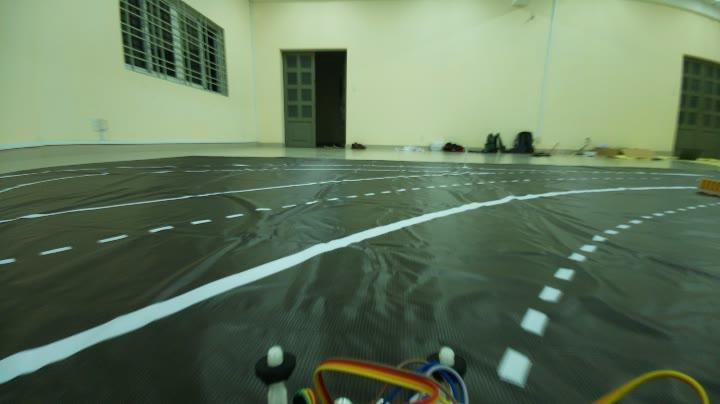roadblock: (695, 174, 720, 196)
